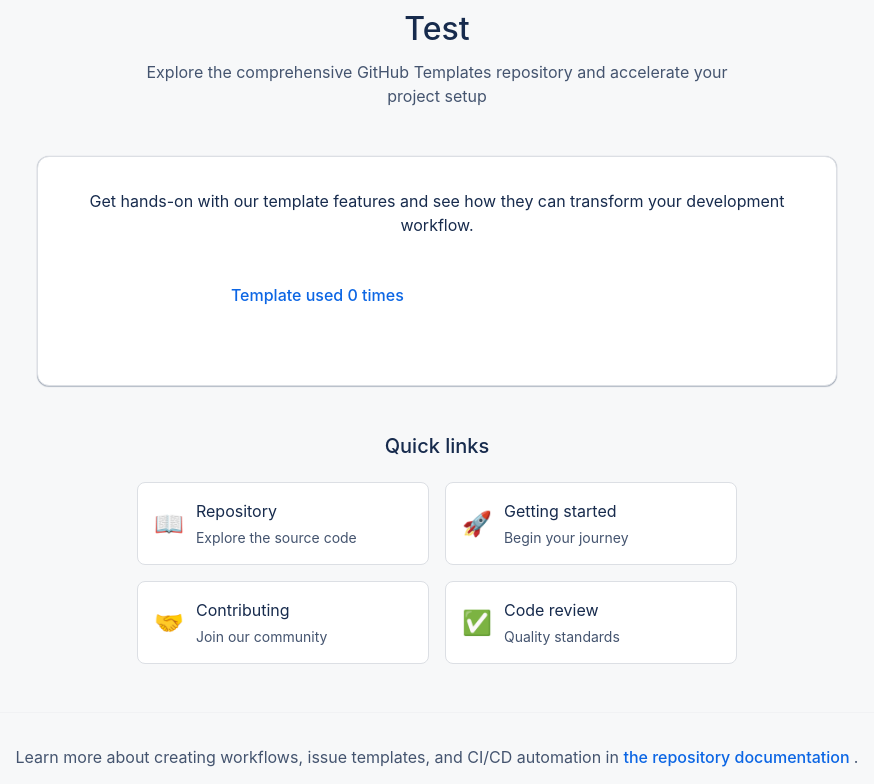
HelloWorld.vue › increments count when button is clicked
This screenshot has width=874, height=784.
Click the button "Template used 0 times".
click(317, 295)  # box [197,269,438,321]
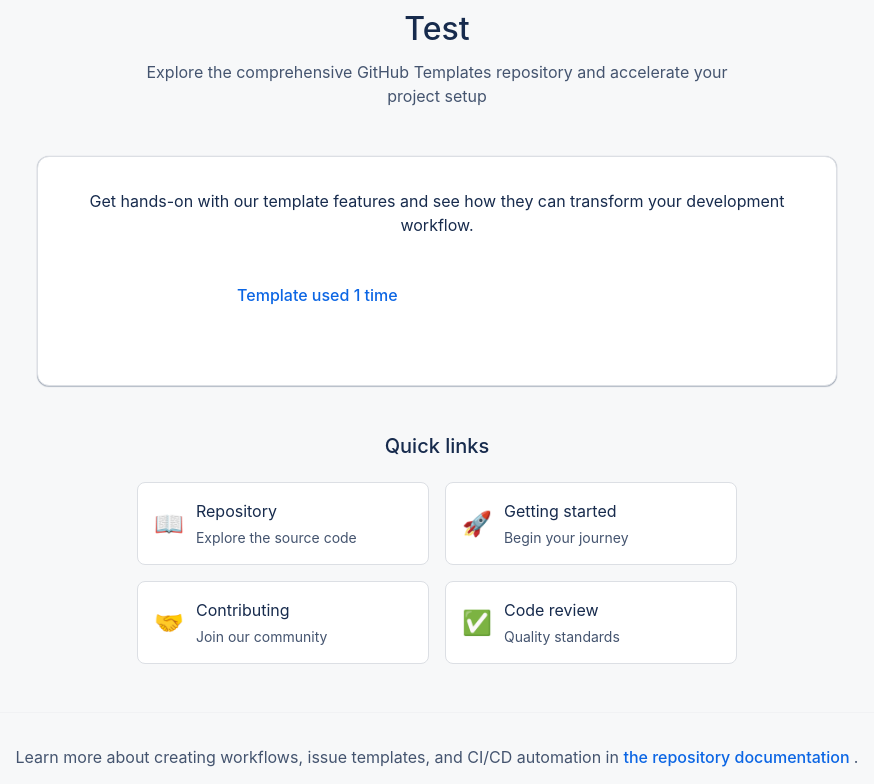
Expected: the text "Template used 1 time" is shown
Click the button "Template used 1 time".
click(317, 295)  # box [203,269,432,321]
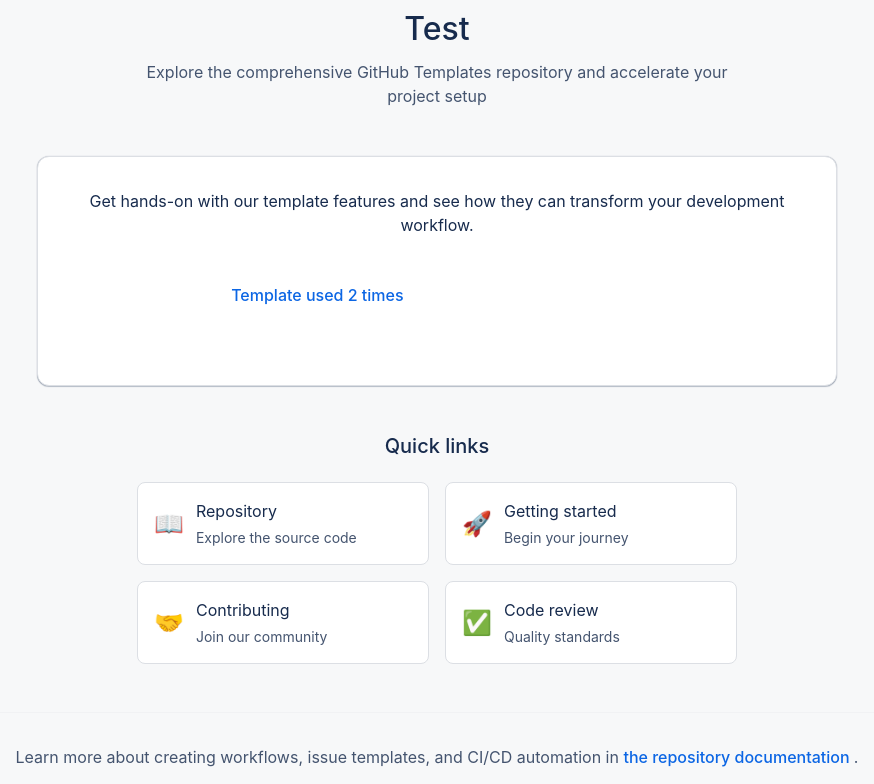
Expected: the text "Template used 2 times" is shown, [197,269,438,321]
